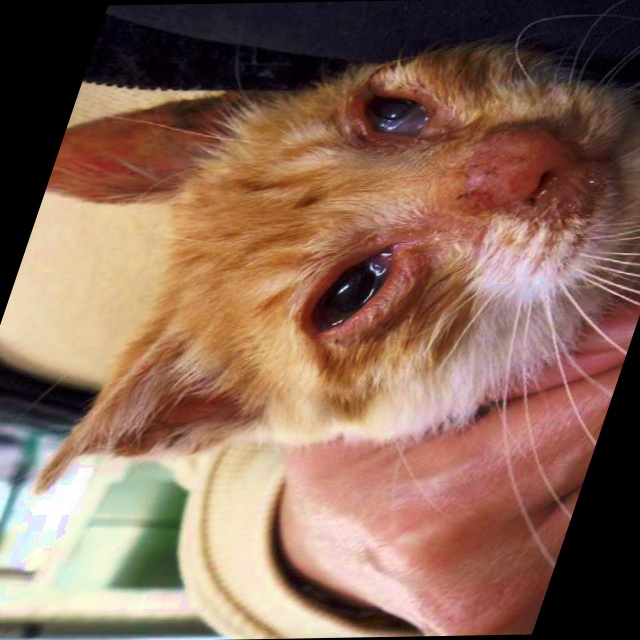eye_infection: (298, 247, 413, 335), (343, 76, 452, 147)
